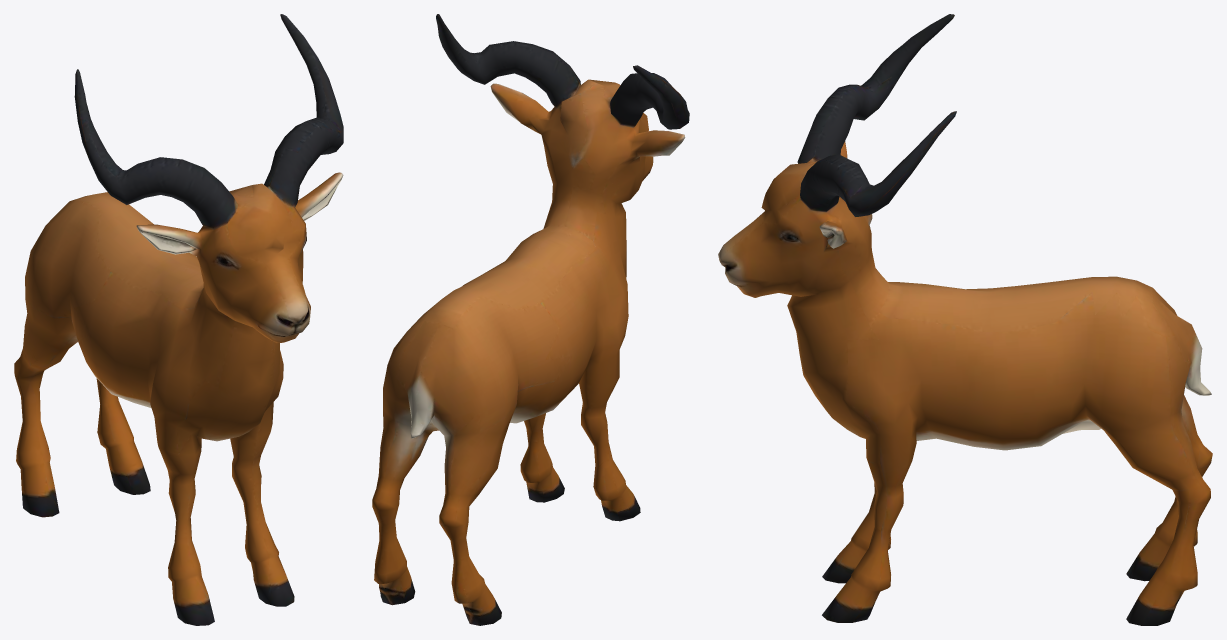
Rendered from pokedex_mammal.glb.
The picture shows the model from 3 angles, left to right: view 1: azimuth 30°, elevation 25°; view 2: azimuth 150°, elevation 25°; view 3: azimuth 270°, elevation 25°; orthographic projection. The views are drawn at different scales.
Bounding box in the file's own units: 0.4663 × 0.9536 × 0.7998.
Materials: 1 (1 with a texture image).
